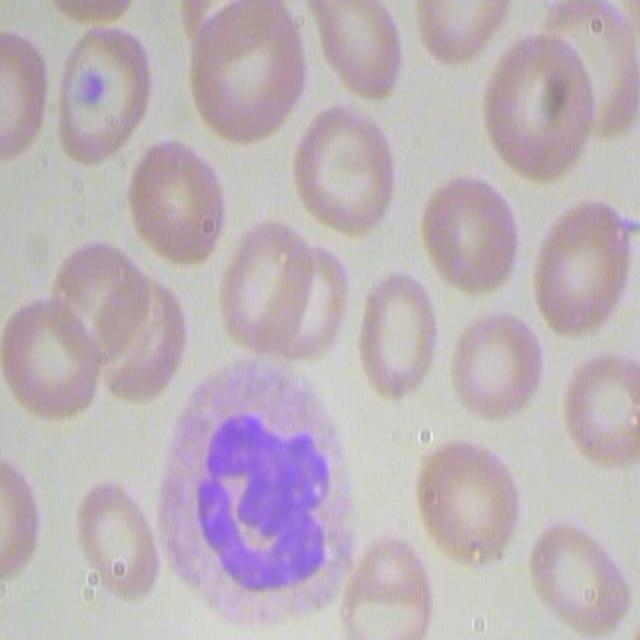RBC: (212, 222, 357, 373), (61, 237, 188, 404), (481, 26, 597, 183), (180, 0, 304, 146), (49, 15, 157, 168), (292, 96, 401, 245), (415, 431, 528, 573), (535, 200, 633, 340), (0, 294, 102, 424), (421, 172, 527, 296), (352, 266, 445, 406), (129, 140, 226, 273), (448, 301, 550, 426), (531, 518, 633, 634), (328, 530, 436, 637), (76, 480, 162, 603), (310, 1, 404, 108), (564, 348, 640, 469), (0, 16, 50, 171), (406, 0, 512, 67), (0, 451, 43, 582)
WBC: (163, 364, 356, 626)
